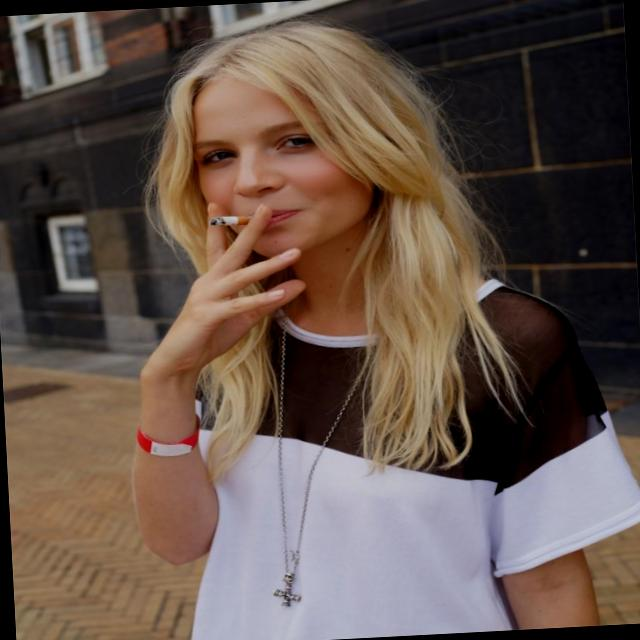smoke: (196, 198, 288, 233)
